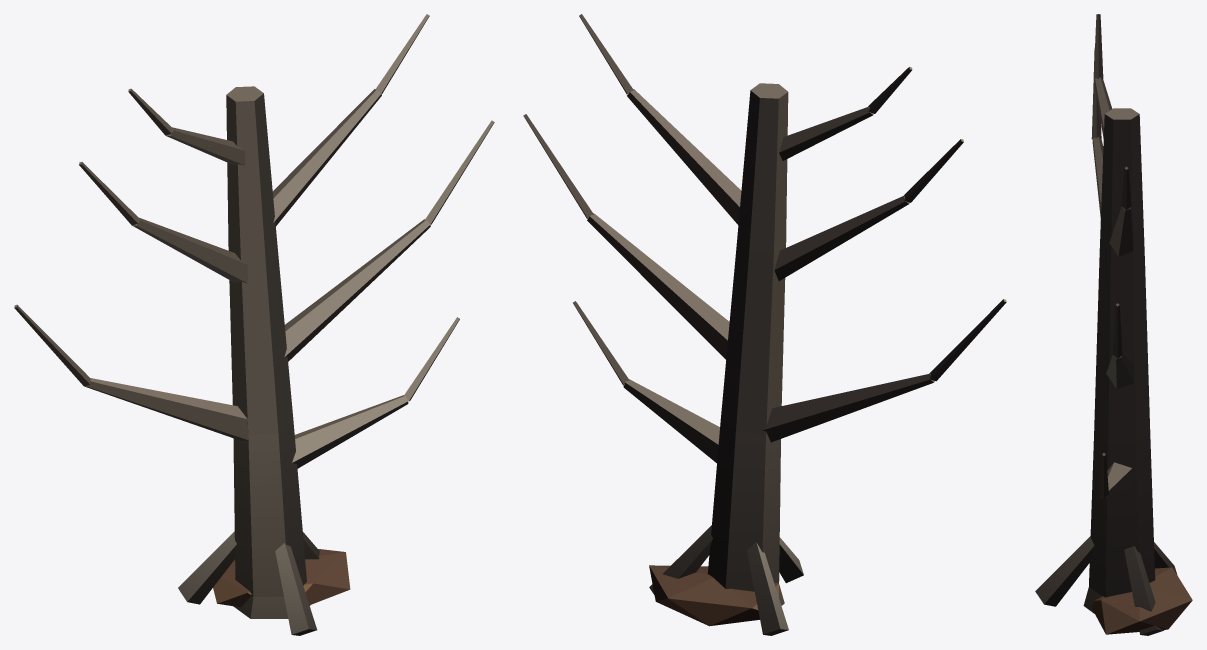
File: tree_dead.glb
3 views of the same model, side by side, from view 1: azimuth 30°, elevation 25°; view 2: azimuth 150°, elevation 25°; view 3: azimuth 270°, elevation 25° (orthographic). The views are drawn at different scales.
Visible parts, largest first — view 1: tree_dead; view 2: tree_dead; view 3: tree_dead.
Part boxes in pixels (left/top/right/bottom): tree_dead: left=14, top=14, right=494, bottom=635; tree_dead: left=523, top=14, right=1006, bottom=635; tree_dead: left=1035, top=14, right=1192, bottom=635.
Size of the model in its own units: 1.47 by 1.66 by 0.4494.
